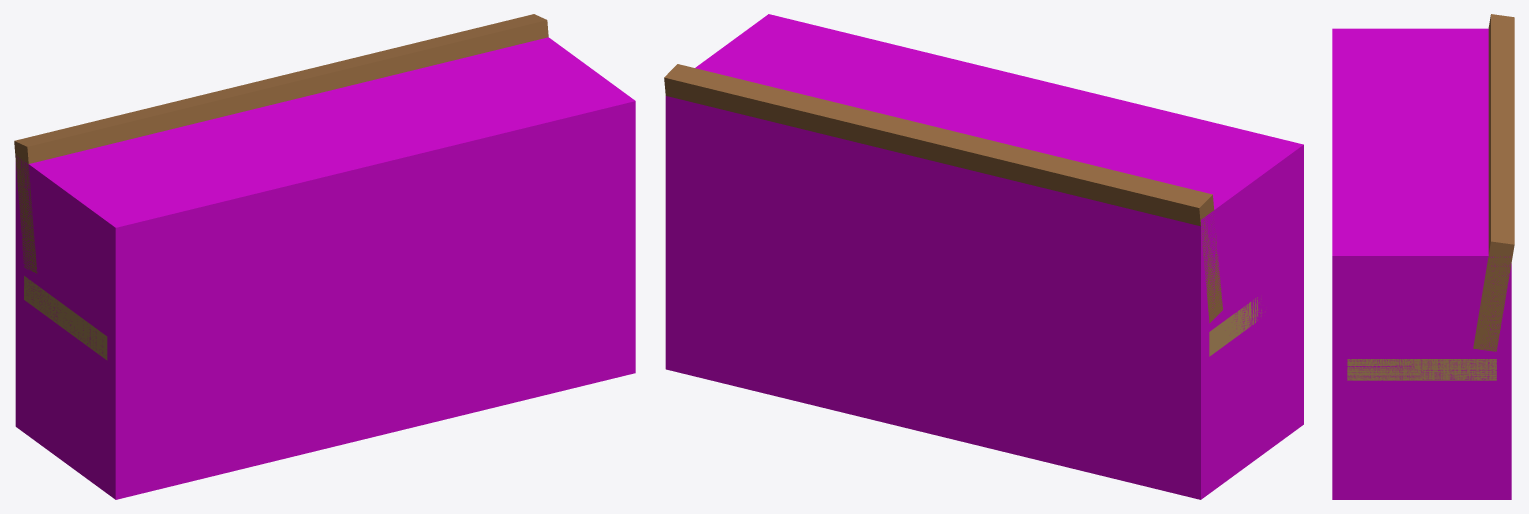
File: bench.glb
The picture shows the model from 3 angles, left to right: view 1: azimuth 30°, elevation 25°; view 2: azimuth 150°, elevation 25°; view 3: azimuth 270°, elevation 25°; orthographic projection. The views are drawn at different scales.
Visible parts, largest first — view 1: COL_bench, bench; view 2: COL_bench, bench; view 3: COL_bench, bench.
Part boxes in pixels (box(x1,y1,x2,y2)): COL_bench: box(15, 37, 635, 499); bench: box(14, 14, 548, 360); COL_bench: box(665, 14, 1303, 499); bench: box(664, 64, 1265, 356); COL_bench: box(1332, 28, 1511, 499); bench: box(1347, 14, 1514, 380).
Bounding box in the file's own units: 1.8 × 0.9537 × 0.6094.
